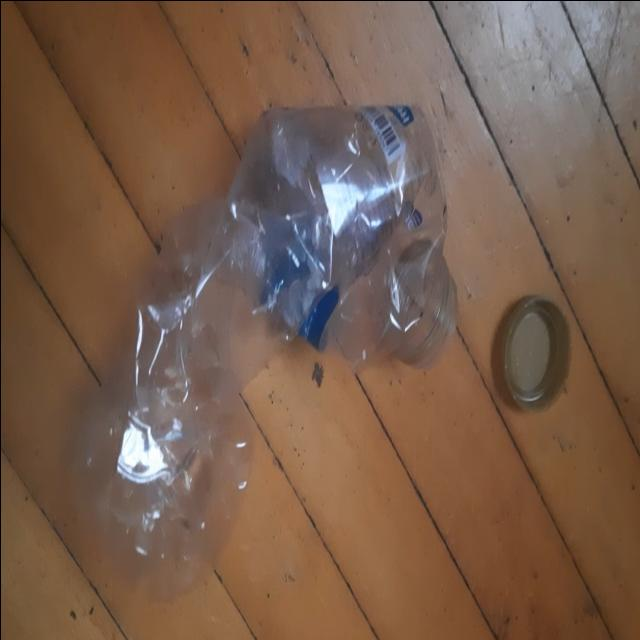Plastic: (98, 102, 456, 602), (490, 292, 570, 412)
